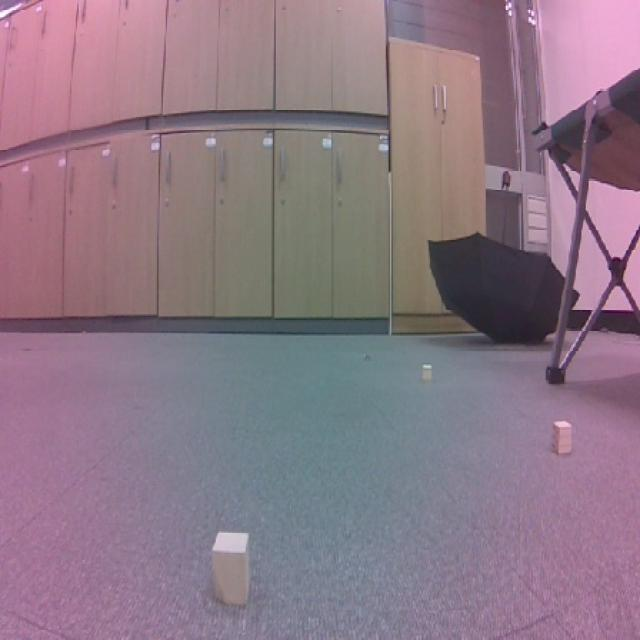obstacle: (196, 518, 271, 623), (539, 412, 587, 464)
